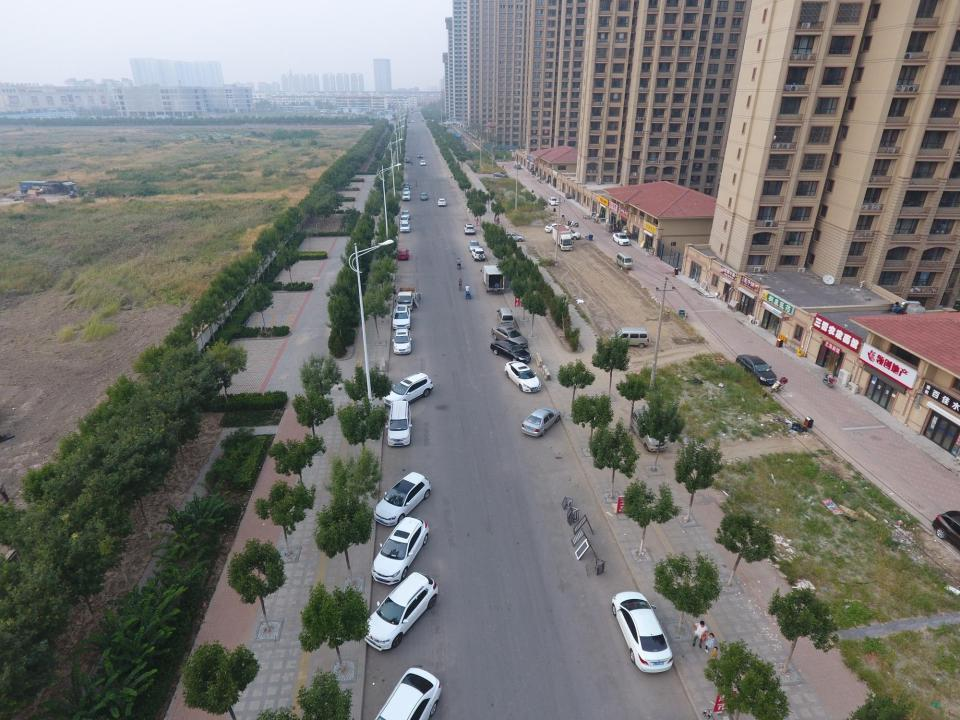car: (356, 572, 437, 652), (611, 591, 674, 674), (370, 517, 430, 585), (367, 667, 442, 720), (372, 472, 430, 526), (383, 372, 434, 406), (734, 353, 778, 388), (930, 505, 960, 546), (521, 407, 562, 437), (504, 361, 542, 393), (490, 338, 532, 364), (490, 326, 530, 349), (391, 328, 412, 356), (392, 305, 411, 329), (770, 376, 789, 392), (545, 222, 570, 234), (499, 231, 525, 242), (561, 227, 581, 241), (612, 232, 630, 246), (471, 248, 486, 262), (397, 248, 409, 261), (463, 224, 476, 236), (468, 240, 480, 252), (398, 222, 410, 233), (399, 216, 409, 226), (400, 210, 410, 219), (548, 197, 559, 205), (494, 172, 508, 178), (437, 198, 447, 206), (402, 187, 410, 196), (420, 192, 428, 200), (402, 192, 410, 200), (402, 182, 410, 189), (514, 164, 521, 170), (417, 152, 423, 158), (420, 160, 426, 165), (405, 158, 411, 163)
truck: (552, 225, 574, 250), (395, 286, 417, 310)
van: (629, 407, 671, 452), (385, 401, 412, 447), (608, 326, 650, 349), (480, 264, 505, 294), (496, 308, 515, 328), (616, 253, 634, 269)
